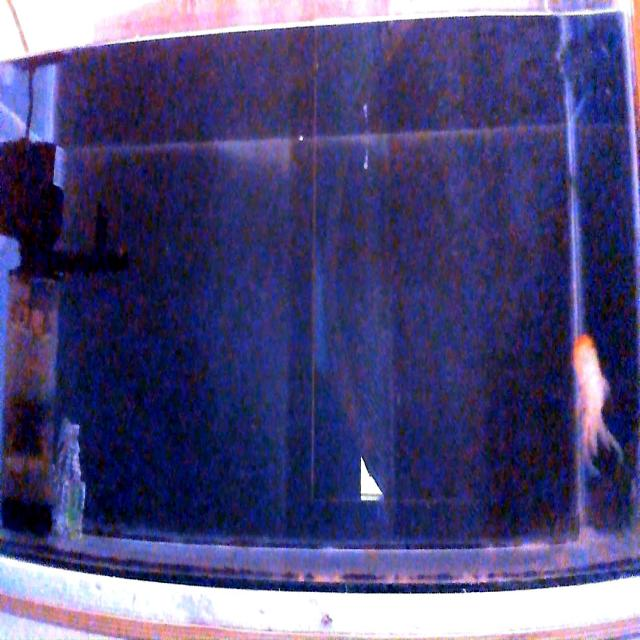fish: (572, 332, 622, 481)
